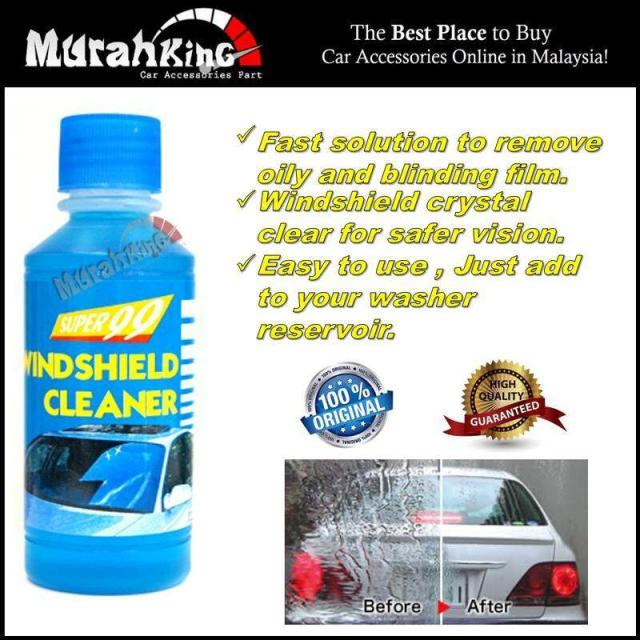winwinshield_washer: (18, 107, 199, 604)
